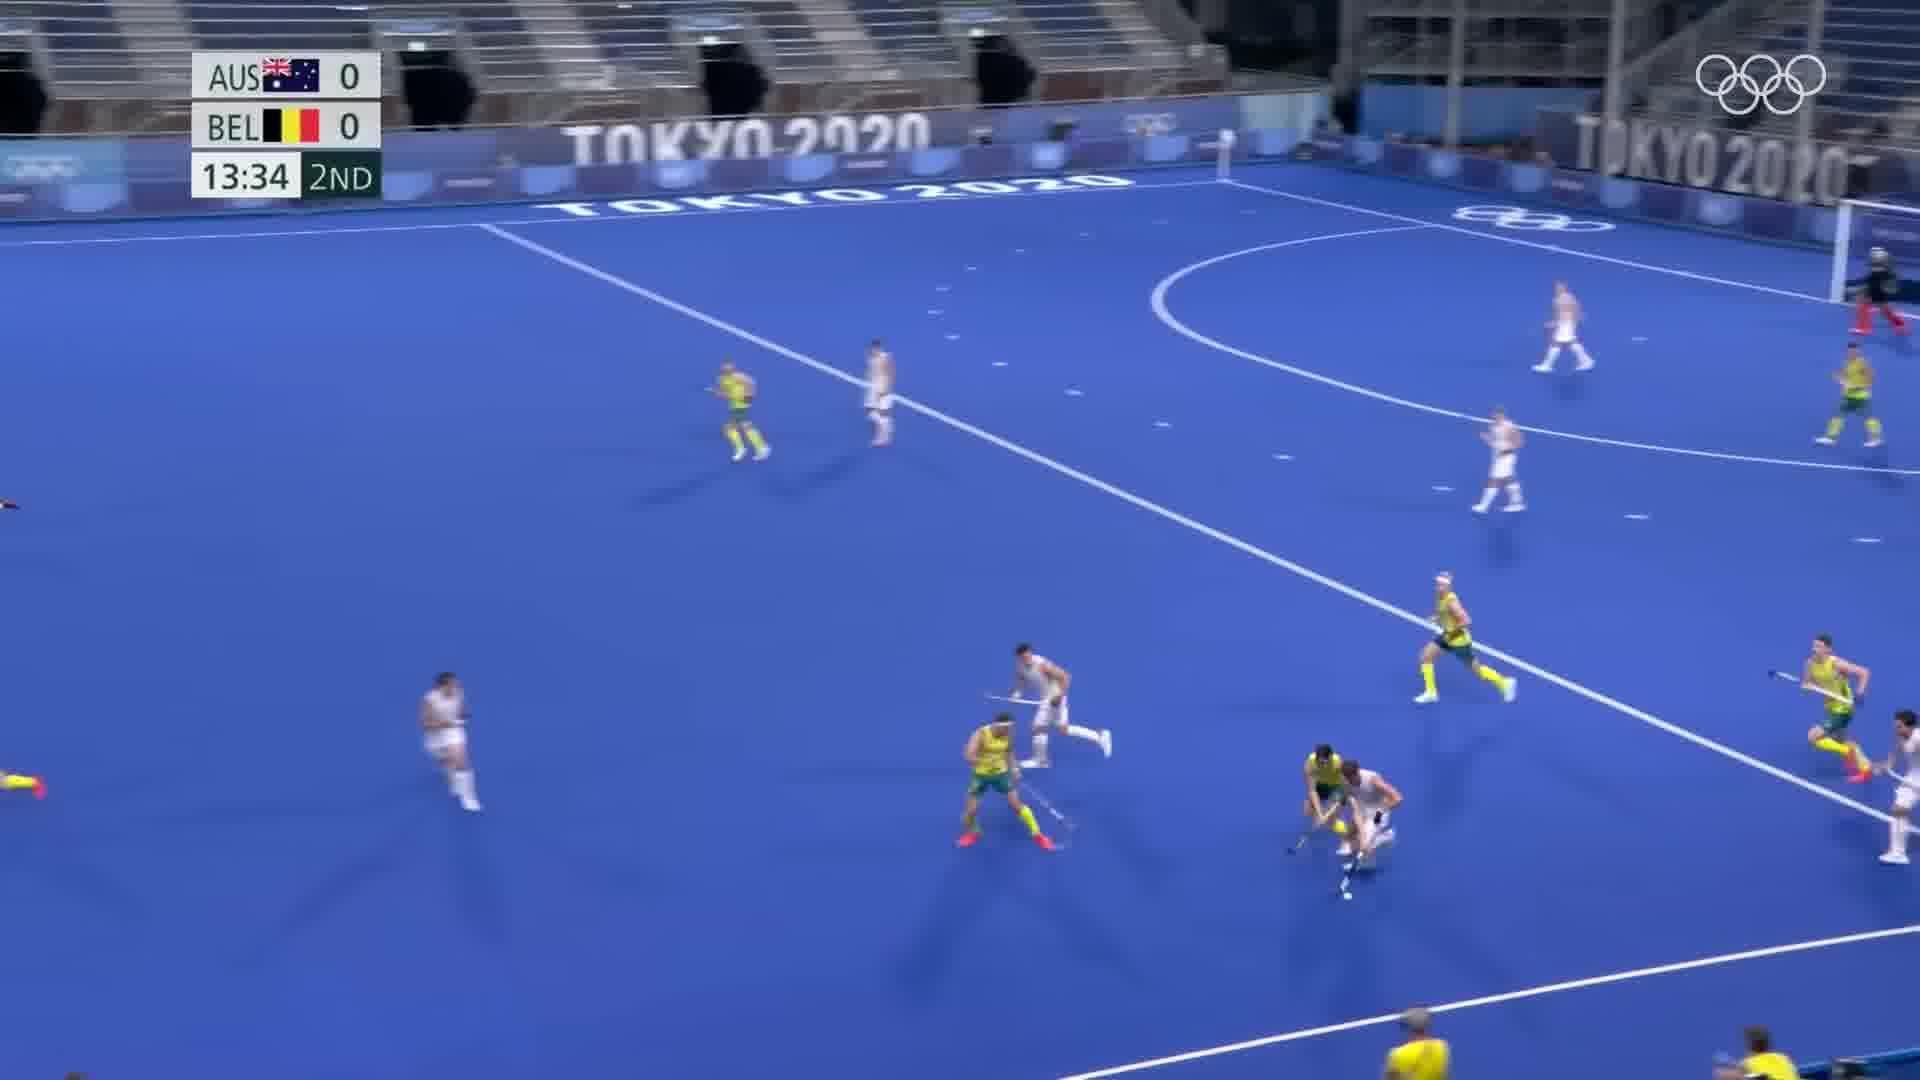ball: (1337, 883, 1357, 909)
